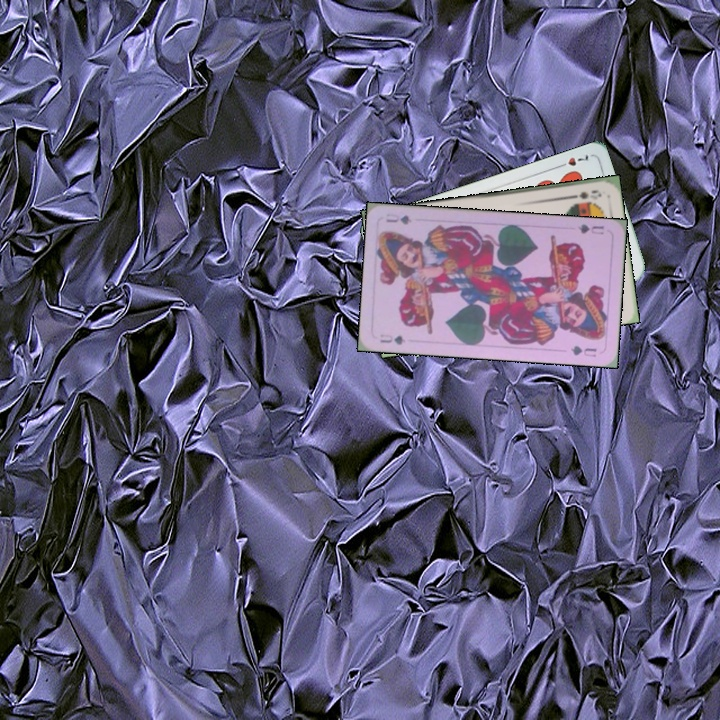GU: (574, 220, 606, 237), (376, 330, 408, 347)
H7: (553, 150, 591, 170)
SO: (564, 186, 604, 202)
